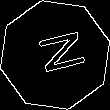N_W: (26, 30, 84, 80)
